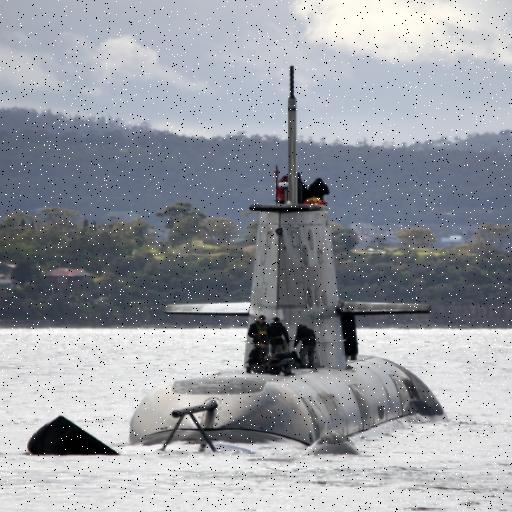submarine: (31, 62, 463, 461)
